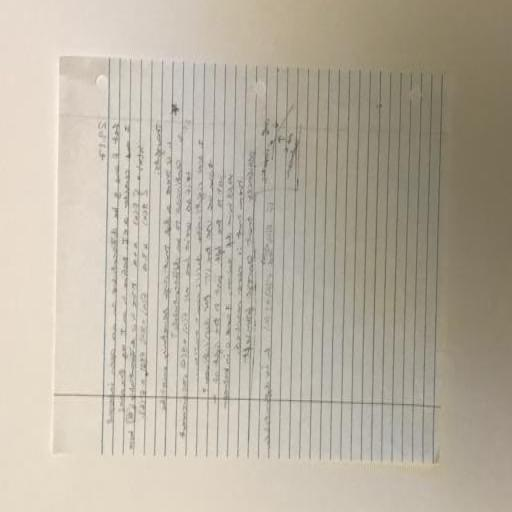paper: (54, 56, 441, 464)
